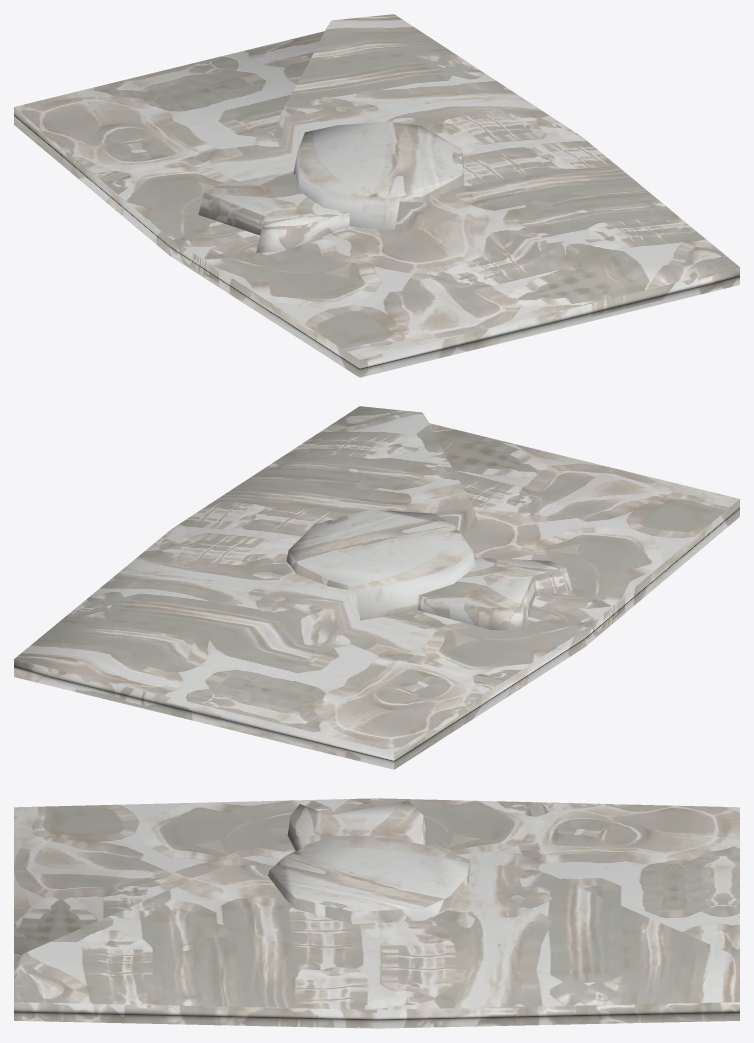
3 views of the same model, one above another, from view 1: azimuth 30°, elevation 25°; view 2: azimuth 150°, elevation 25°; view 3: azimuth 270°, elevation 25° (orthographic). The views are drawn at different scales.
Visible parts, largest first — view 1: SM_Leg_R_LOD0; view 2: SM_Leg_R_LOD0; view 3: SM_Leg_R_LOD0.
Part boxes in pixels (x1,y1,x2,y2): SM_Leg_R_LOD0: [14, 14, 739, 377]; SM_Leg_R_LOD0: [14, 406, 739, 769]; SM_Leg_R_LOD0: [14, 798, 739, 1028].
Bounding box in the file's own units: 0.1391 × 0.0152 × 0.2017.
